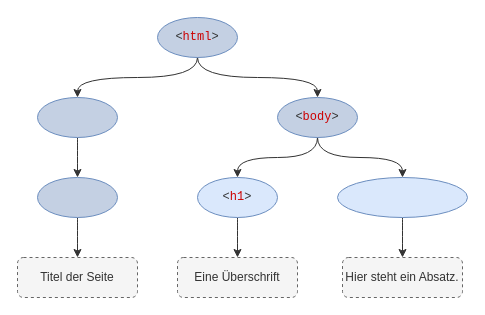
Some shapes in this 485 by 315 pixel diagram are drawn without their labels. The centre of each missing label's shape, as x and y in pixels:
"< head >" belongs at point (77, 117).
"< p > class: main" belongs at point (402, 197).
"< title >" belongs at point (77, 197).
